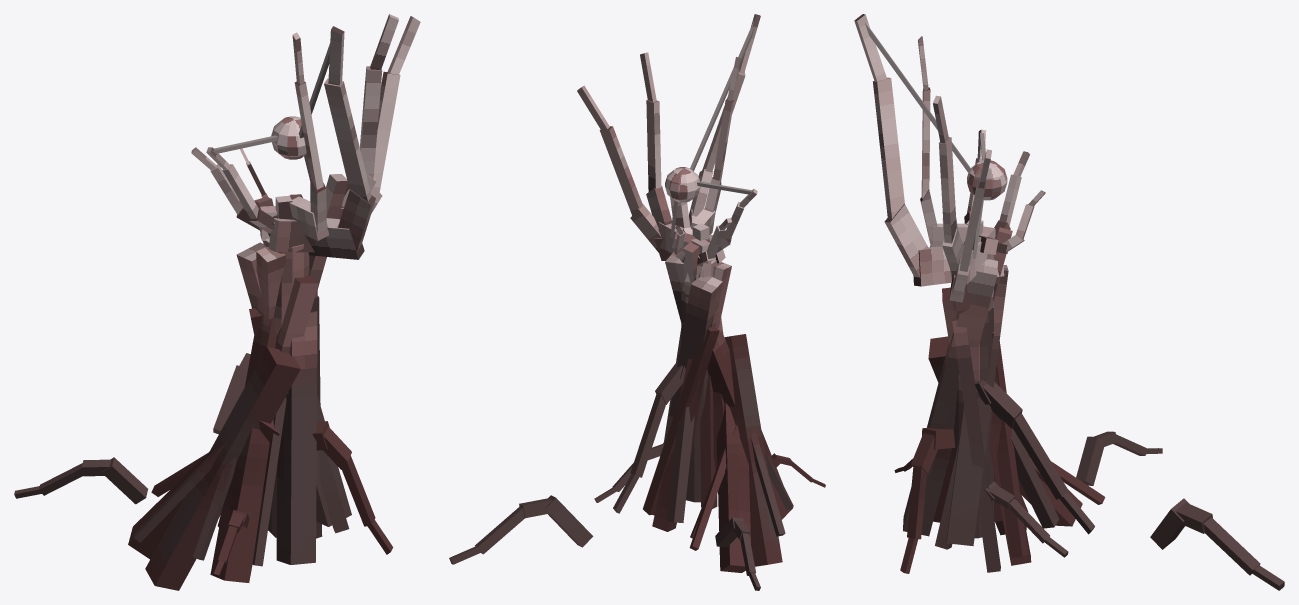
File: evil root.fbx
3 views of the same model, side by side, from view 1: azimuth 30°, elevation 25°; view 2: azimuth 150°, elevation 25°; view 3: azimuth 270°, elevation 25° (orthographic). The views are drawn at different scales.
Visible parts, largest first — view 1: mesh_10, mesh_4, mesh_33, mesh_9, mesh_35, mesh_32, mesh_34, mesh_25, mesh_37, mesh_3, mesh_1, mesh_20 (+13 smaller); view 2: mesh_10, mesh_11, mesh_34, mesh_35, mesh_3, mesh_38, mesh, mesh_24, mesh_6, mesh_12, mesh_32, mesh_9 (+15 smaller); view 3: mesh_33, mesh_4, mesh_3, mesh_8, mesh_24, mesh_38, mesh_34, mesh_25, mesh, cylinder, mesh_32, mesh_12 (+13 smaller).
Boxes of the visible parts, x1,y1,x2,y2 form: mesh_10: (145, 347, 300, 590); mesh_4: (276, 290, 317, 564); mesh_33: (260, 26, 375, 259); mesh_9: (210, 319, 276, 582); mesh_35: (268, 16, 420, 252); mesh_32: (289, 32, 328, 240); mesh_34: (260, 14, 398, 241); mesh_25: (312, 421, 393, 554); mesh_37: (14, 457, 147, 504); mesh_3: (236, 242, 351, 526); mesh_1: (217, 275, 318, 526); mesh_20: (252, 397, 286, 566); mesh_10: (724, 334, 782, 566); mesh_11: (716, 402, 750, 572); mesh_34: (640, 52, 711, 269); mesh_35: (577, 85, 725, 263); mesh_3: (669, 276, 722, 416); mesh_38: (449, 495, 593, 564); mesh: (643, 326, 719, 515); mesh_24: (613, 355, 685, 513); mesh_6: (652, 262, 731, 531); mesh_12: (667, 383, 694, 522); mesh_32: (691, 57, 740, 234); mesh_9: (683, 323, 792, 519); mesh_33: (854, 14, 1004, 286); mesh_4: (903, 259, 997, 536); mesh_3: (946, 265, 1008, 546); mesh_8: (952, 317, 1000, 572); mesh_24: (975, 379, 1094, 534); mesh_38: (1150, 498, 1284, 590); mesh_34: (933, 95, 995, 284); mesh_25: (900, 427, 955, 573); mesh: (996, 341, 1028, 557); cylinder: (953, 289, 993, 538); mesh_32: (918, 36, 968, 247); mesh_12: (992, 410, 1059, 528).
Size of the model in its own units: 157 by 285 by 199.
2 materials, 2 textured.
